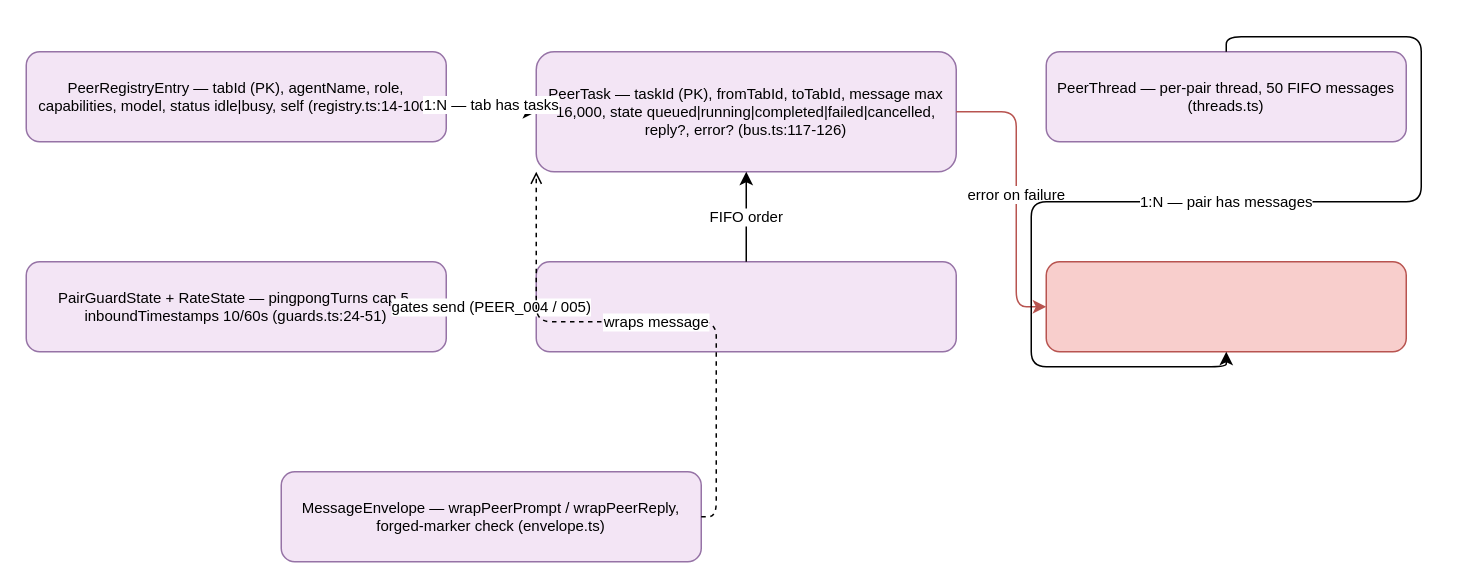
Image size: 1460x588. Some labels were removed from this diagram. The shapes that lost their labels are listed below. From the top down, each one's centre as x and y in pixels, then its label:
the point at 745,306: InboundQueue — Map tabId to taskId[], FIFO, cap 20 (bus.ts:40)
the point at 1225,306: PeerError — code PEER_001..010, message, details? (errors.ts:17-43)
